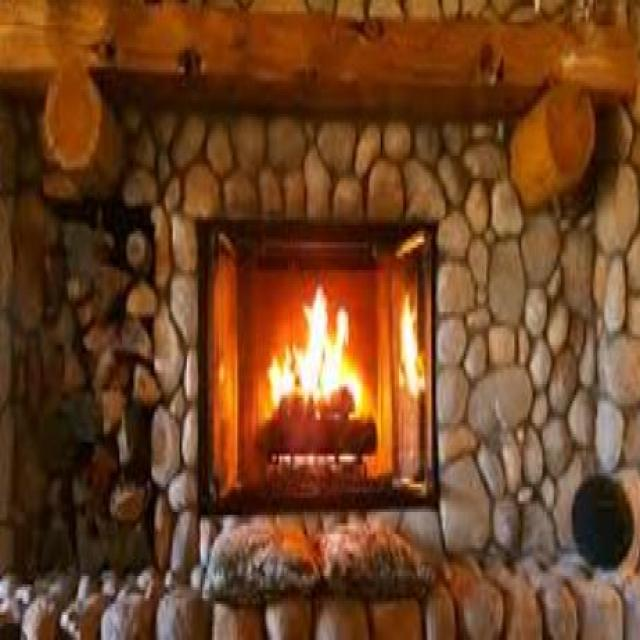Fire_Save: (264, 281, 366, 420)
